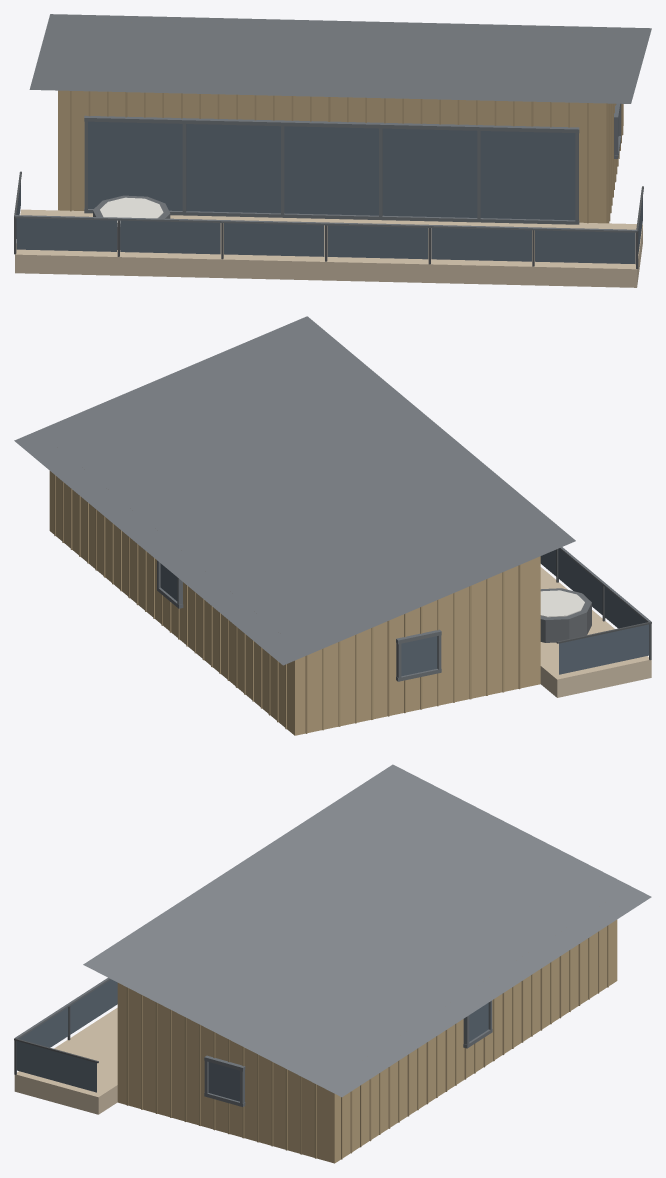
The picture shows the model from 3 angles, top to bottom: view 1: azimuth 30°, elevation 25°; view 2: azimuth 150°, elevation 25°; view 3: azimuth 270°, elevation 25°; orthographic projection. The views are drawn at different scales.
Parts seen in each view (by area): view 1: slate, door_wood, larch, slate_dk, window_glass_012, window_glass_013, window_glass_011, window_glass_010, window_glass_009, window_glass_004, window_glass_002, window_glass_005 (+7 smaller); view 2: slate, door_wood, door_wood_p, larch, window_glass_007, slate_dk, band_dark, window_glass_002, window_glass_014, string, window_glass_001, pipe; view 3: slate, door_wood, door_wood_p, larch, window_glass_008, slate_dk, window_glass_005, window_glass_006, window_glass_015.
Boxes of the visible parts, x1=… form: slate: x1=29, y1=14, x2=651, y2=103; door_wood: x1=58, y1=90, x2=623, y2=223; larch: x1=15, y1=209, x2=642, y2=287; slate_dk: x1=15, y1=103, x2=637, y2=232; window_glass_012: x1=382, y1=128, x2=477, y2=217; window_glass_013: x1=480, y1=131, x2=575, y2=220; window_glass_011: x1=284, y1=126, x2=378, y2=215; window_glass_010: x1=186, y1=124, x2=280, y2=213; window_glass_009: x1=88, y1=121, x2=182, y2=210; window_glass_004: x1=327, y1=225, x2=428, y2=259; window_glass_002: x1=120, y1=220, x2=220, y2=254; window_glass_005: x1=431, y1=228, x2=531, y2=261; slate: x1=14, y1=316, x2=575, y2=665; door_wood: x1=49, y1=471, x2=540, y2=735; door_wood_p: x1=54, y1=474, x2=520, y2=733; larch: x1=540, y1=567, x2=651, y2=697; window_glass_007: x1=559, y1=624, x2=649, y2=674; slate_dk: x1=157, y1=547, x2=651, y2=681; band_dark: x1=540, y1=588, x2=591, y2=642; window_glass_002: x1=558, y1=548, x2=602, y2=614; window_glass_014: x1=401, y1=636, x2=437, y2=676; string: x1=540, y1=590, x2=584, y2=617; window_glass_001: x1=604, y1=587, x2=646, y2=628; pipe: x1=556, y1=549, x2=651, y2=660; slate: x1=83, y1=764, x2=651, y2=1097; door_wood: x1=117, y1=920, x2=617, y2=1163; door_wood_p: x1=126, y1=925, x2=608, y2=1159; larch: x1=14, y1=1007, x2=117, y2=1114; window_glass_008: x1=16, y1=1041, x2=96, y2=1092; slate_dk: x1=15, y1=977, x2=492, y2=1106; window_glass_005: x1=70, y1=979, x2=117, y2=1034; window_glass_006: x1=19, y1=1007, x2=68, y2=1047; window_glass_015: x1=208, y1=1062, x2=239, y2=1101.
Bounding box in the file's own units: 18.03 × 4.02 × 16.52.
